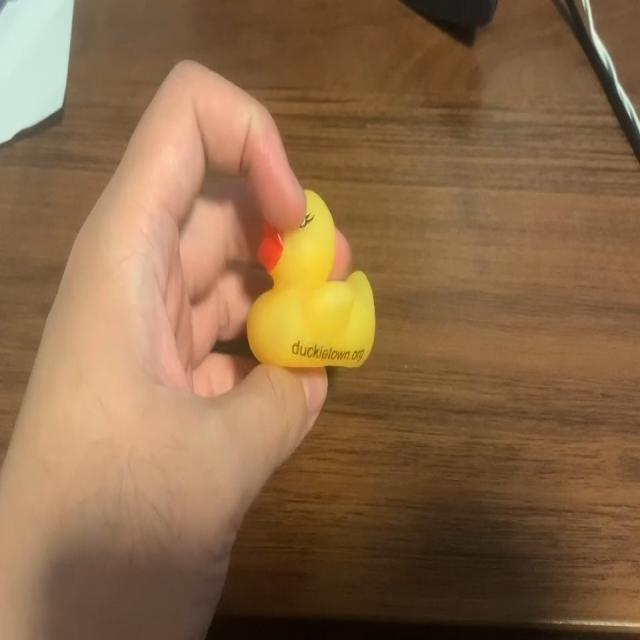rubber-duck: (246, 189, 374, 365)
